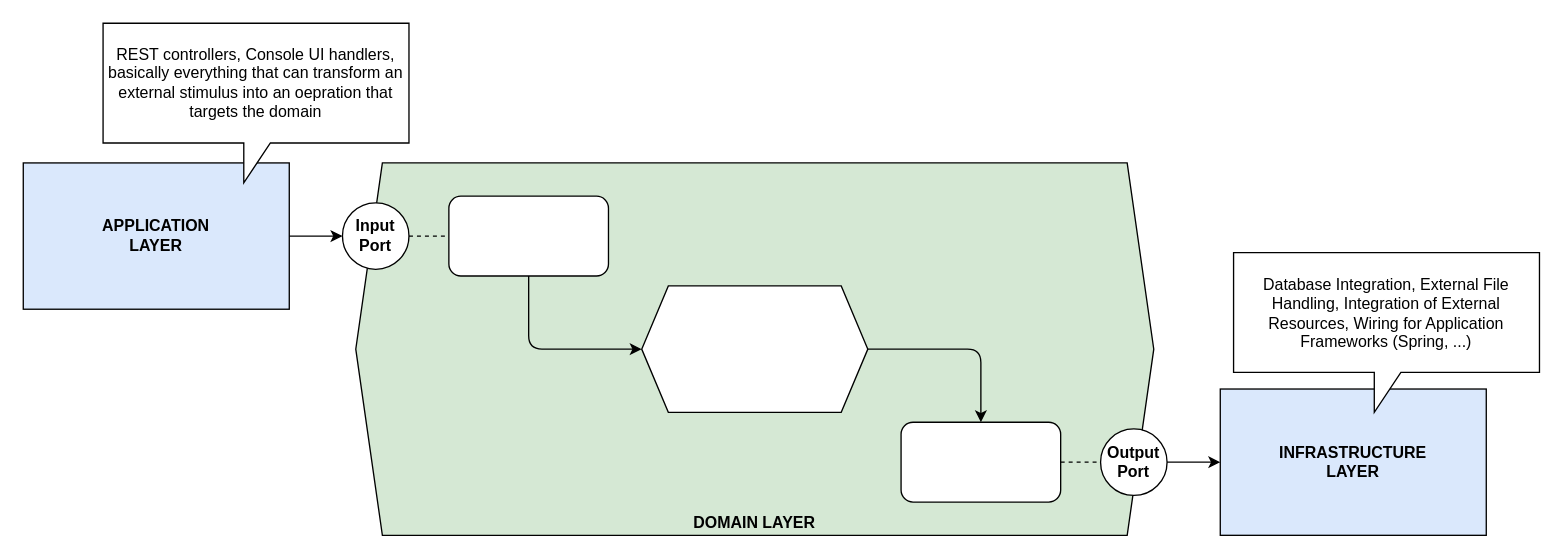
The diagram is 1563 pixels wide and 559 high, and some of its shapes have lost their labels. The shapes that lost their labels are listed below. From the top down, each one's centre as x and y in pixels, then its label:
the point at 528,235: Entry Point
the point at 754,348: Business Logic
the point at 980,461: External Reference
